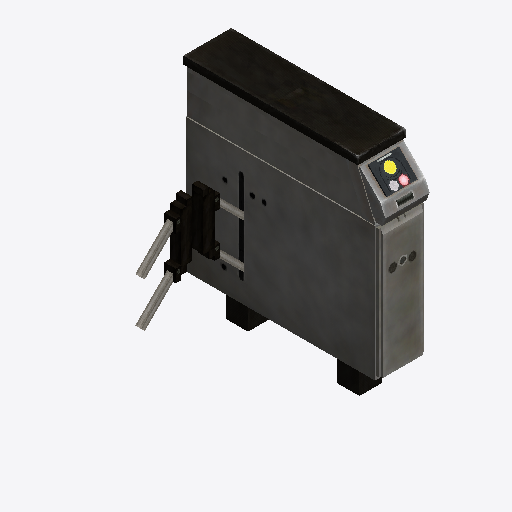
A Minecraft block model of 30 cuboids, rendered isometrically (azimuth 45°, elevation 35.3°) with the resource pack's own textures.
Visible parts, largest first — element 7, крышка, element 10, element 13, element 14, element 5, element 24, element 22, element 3, element 2, element 9, ножка1 (+5 smaller).
Part boxes in pixels (x1,y1,x2,y2): element 7: (186, 116, 379, 379); крышка: (183, 28, 405, 164); element 10: (381, 212, 422, 377); element 13: (187, 91, 362, 217); element 14: (187, 72, 353, 186); element 5: (368, 147, 417, 196); element 24: (192, 187, 214, 253); element 22: (170, 200, 191, 266); element 3: (359, 141, 424, 202); element 2: (369, 178, 429, 218); element 9: (376, 203, 423, 376); ножка1: (337, 359, 381, 395).
Size of the model in its own units: 16.49 by 24.03 by 21.91.